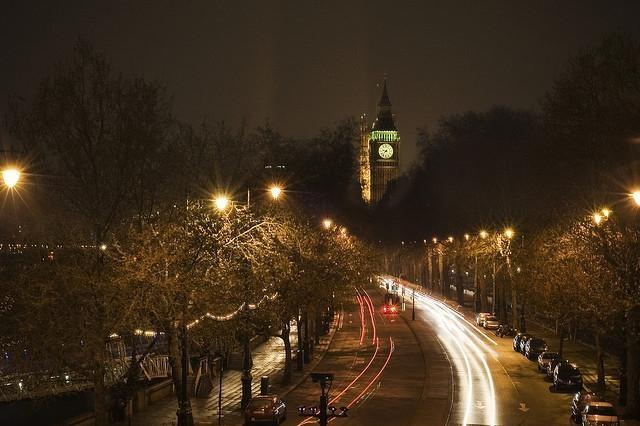car: (244, 395, 288, 425), (570, 392, 608, 424), (580, 401, 619, 426), (552, 361, 583, 391), (538, 351, 564, 373), (524, 338, 549, 358), (512, 333, 532, 350), (546, 360, 564, 378), (520, 336, 536, 353), (484, 315, 498, 330), (477, 313, 490, 326)
motorcycle: (496, 323, 515, 336)
